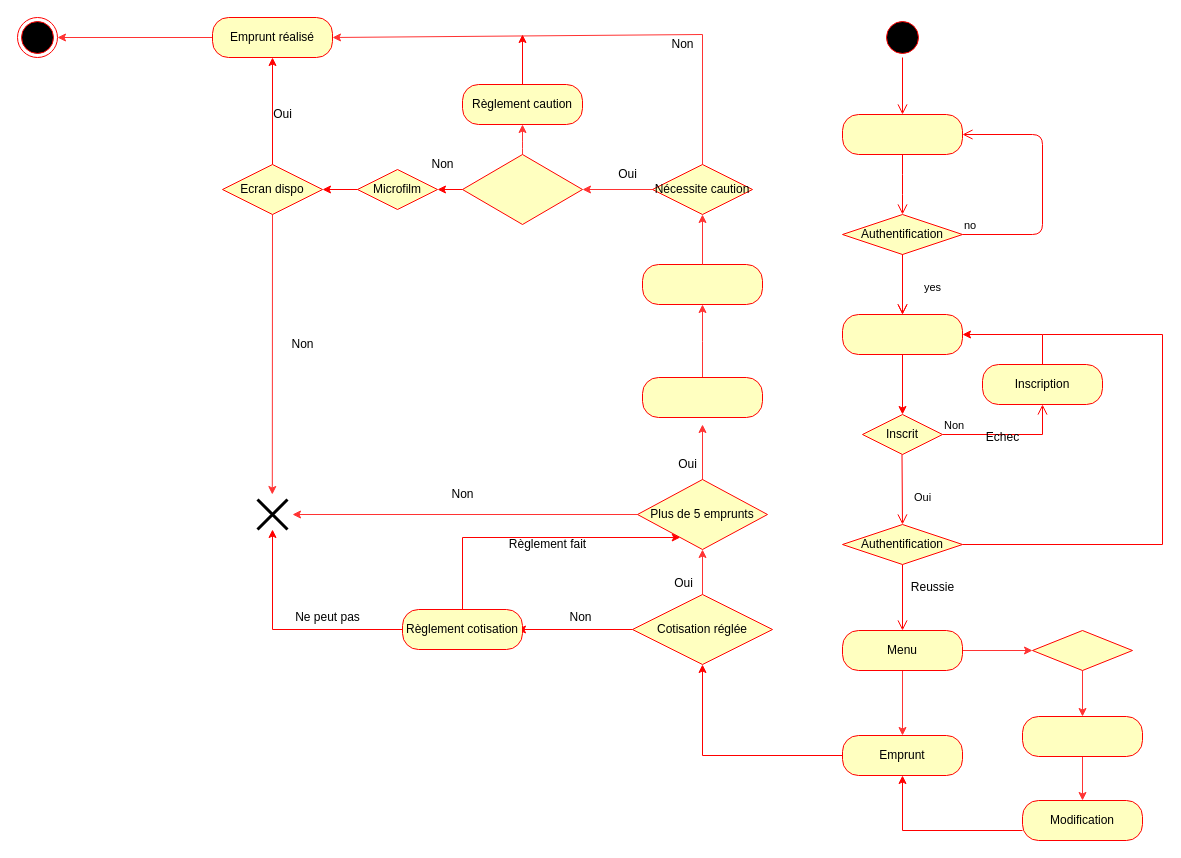
Image size: 1181x858. Some labels were removed from this diagram. Each missing label, with the centre of its shape:
CD: point (522, 189)
Fiche lecteur: point (1082, 736)
Fiche produit: point (702, 284)
Gestion user: point (1082, 650)
Identification Client: point (902, 334)
Identification Employé: point (902, 134)
Insérer Fiche Produit: point (702, 397)
